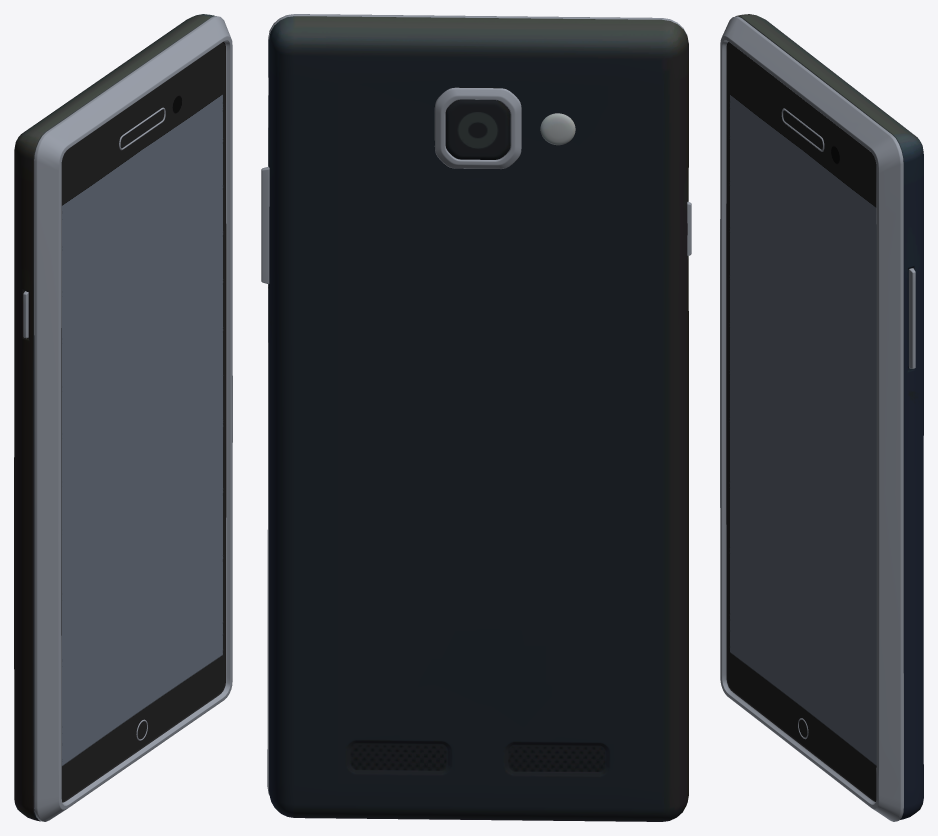
The model's file is phone.fbx.
The picture shows the model from 3 angles, left to right: view 1: azimuth 30°, elevation 25°; view 2: azimuth 150°, elevation 25°; view 3: azimuth 270°, elevation 25°; orthographic projection. The views are drawn at different scales.
Visible parts, largest first — view 1: node_id73; view 2: node_id73; view 3: node_id73.
Part boxes in pixels (bbox=[...]): node_id73: bbox=[14, 14, 232, 821]; node_id73: bbox=[261, 14, 691, 821]; node_id73: bbox=[720, 14, 923, 821].
Size of the model in its own units: 0.2215 by 0.512 by 0.1381.
1 material, 1 textured.
